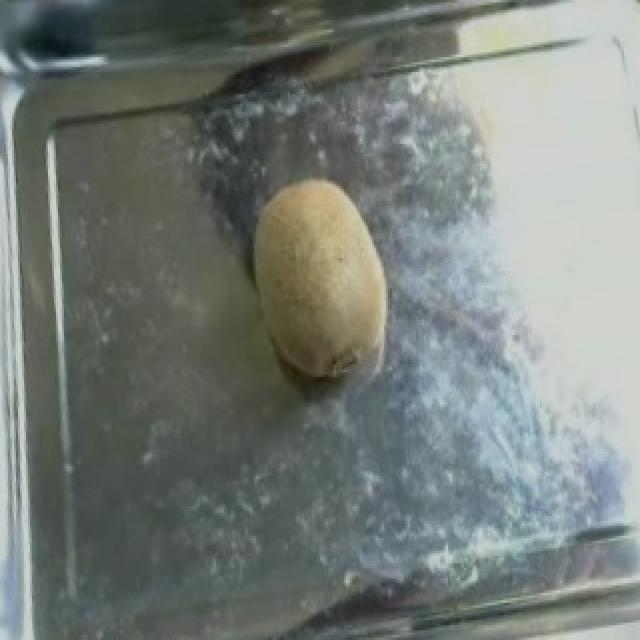Fruit: (234, 162, 414, 394)
